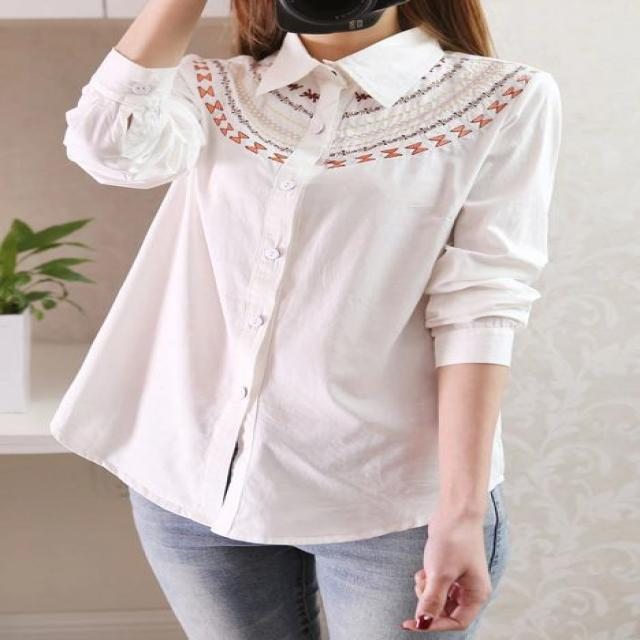long sleeve top: (51, 26, 552, 532)
trousers: (131, 413, 505, 638)
